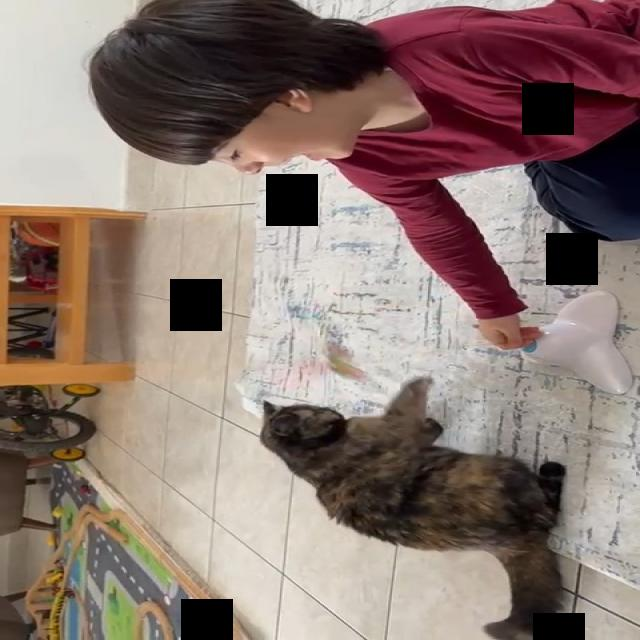authorized: (257, 376, 568, 639)
